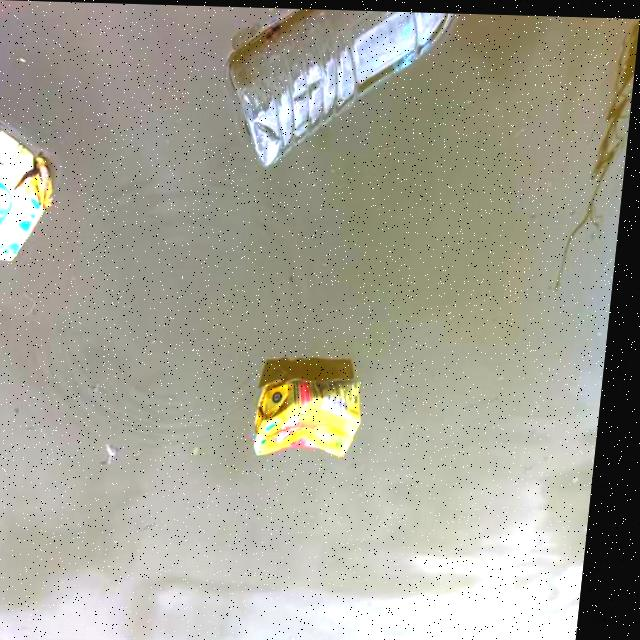paper: (255, 354, 405, 465), (0, 108, 72, 281)
waterbottle: (208, 5, 512, 147)
